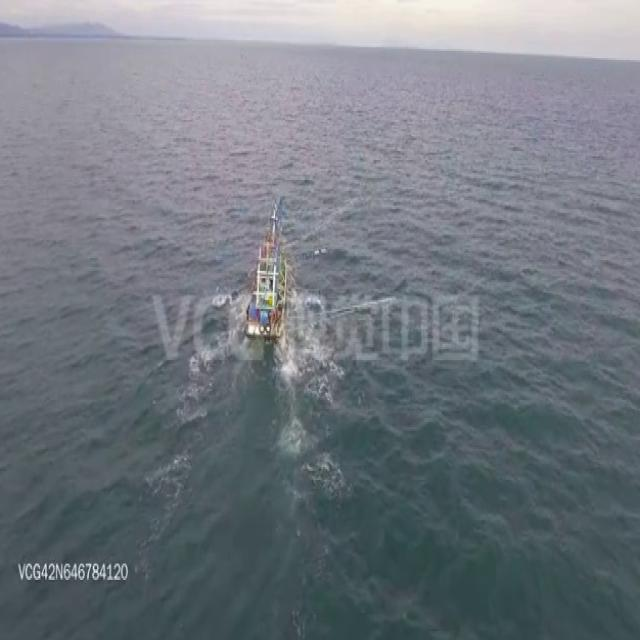fishing boat: (246, 189, 286, 344)
